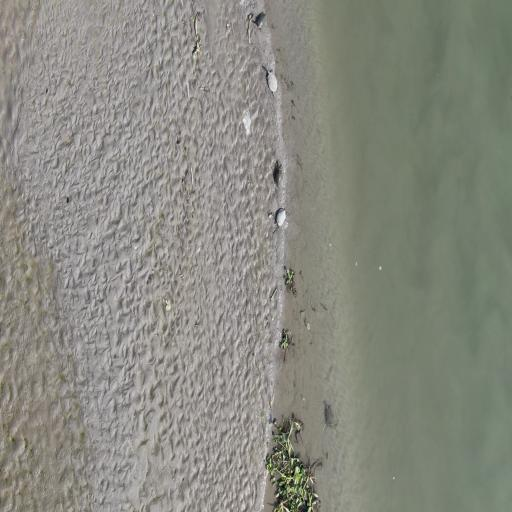turtle: (266, 67, 280, 98), (324, 400, 338, 430), (255, 8, 269, 33), (274, 205, 287, 228), (274, 159, 282, 185)
